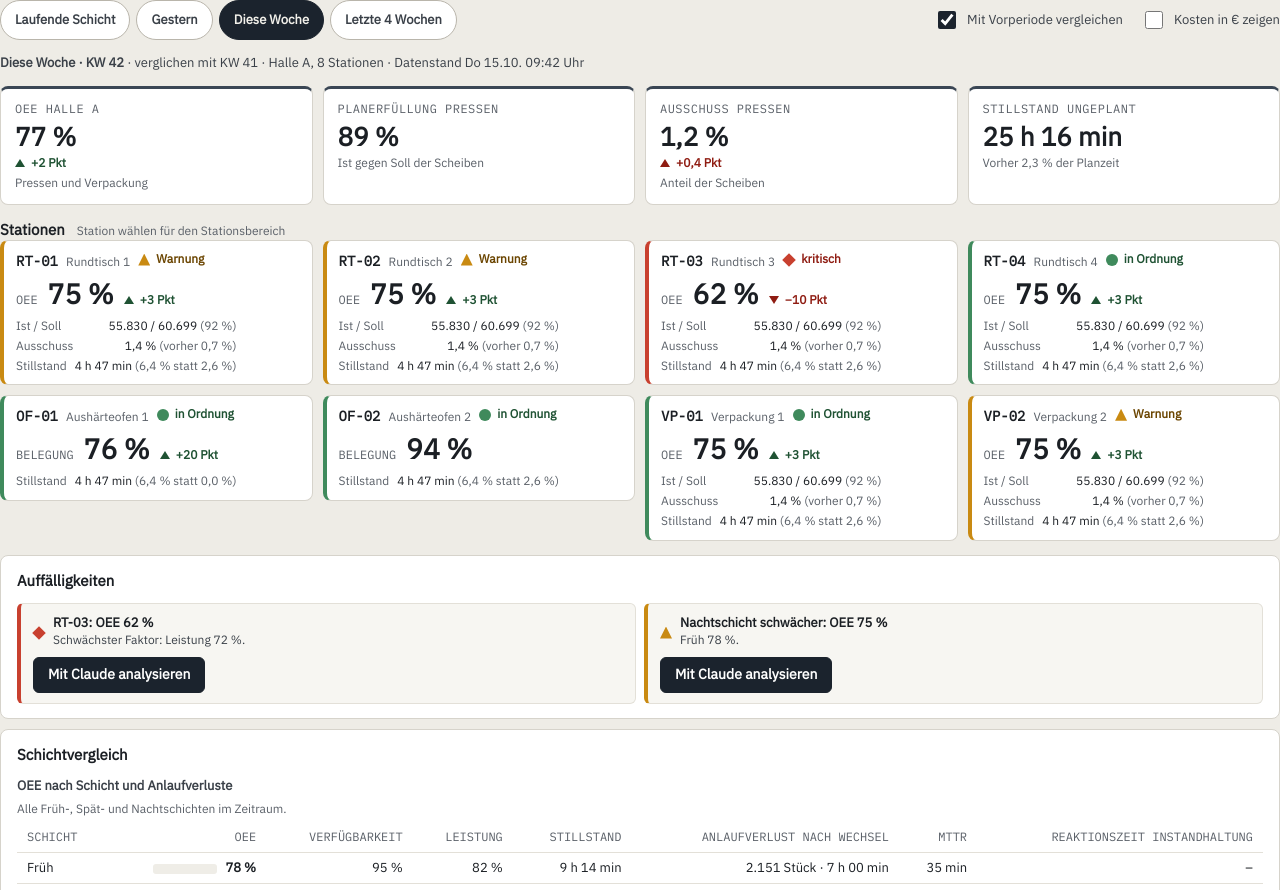
Test: Stationsdetail › öffnet bei Klick den Stationsbereich mit allen Diagrammen und Tabellen-Alternativen
Click the button with class "mc-tile" that starts with "RT-03" at (801, 313), box x1=645 y1=240 x2=958 y2=385
(page scrolled)
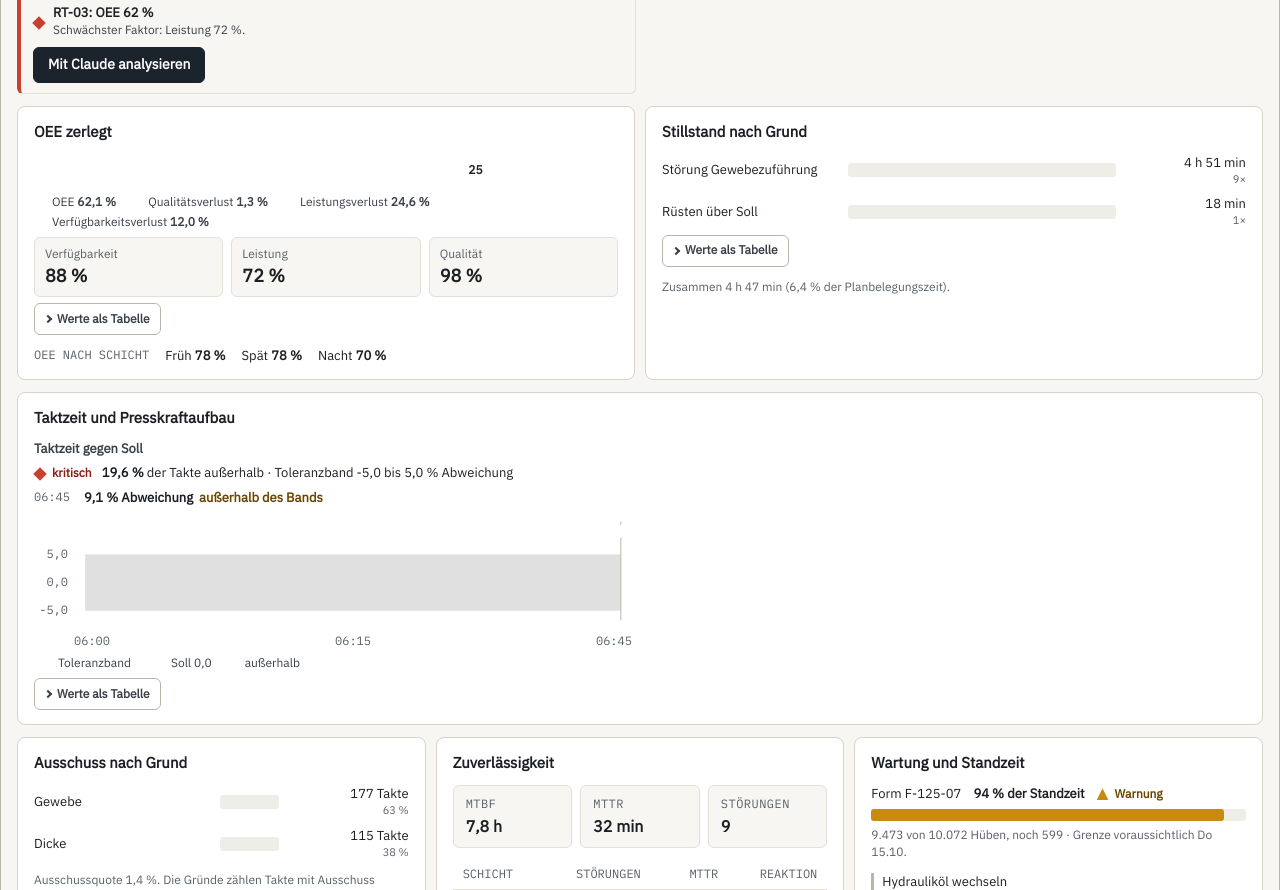
Check: the element with class "mc-detail" shows "Verfügbarkeit", box x1=45 y1=246 x2=118 y2=261
Check: the element with class "mc-detail" shows "Störung Gewebezuführung", box x1=662 y1=161 x2=817 y2=178
Check: the element with class "mc-detail" shows "4 h 51 min", box x1=1184 y1=154 x2=1246 y2=170
